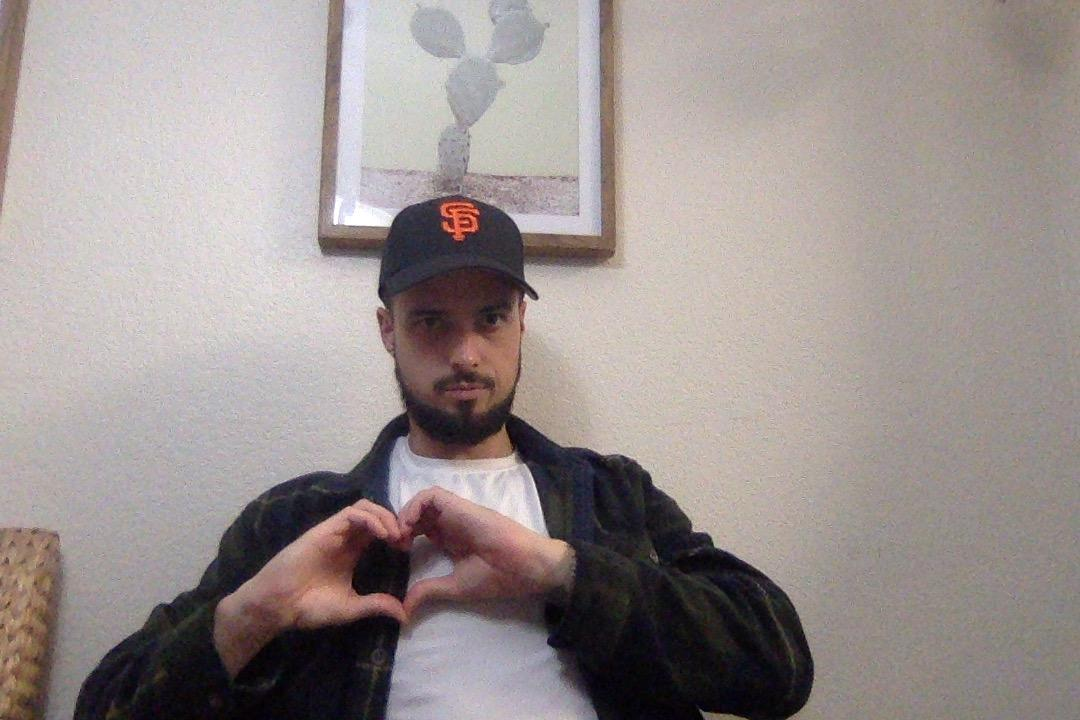Heart: (237, 497, 571, 628)
